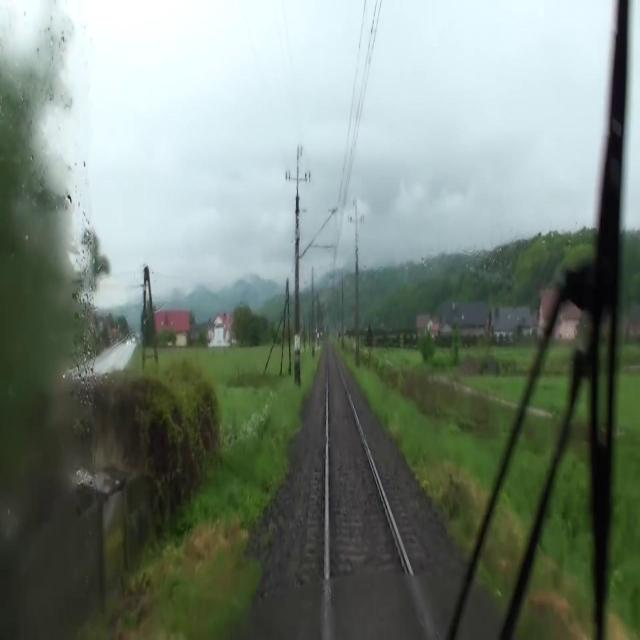rail-track: (329, 359, 432, 639)
